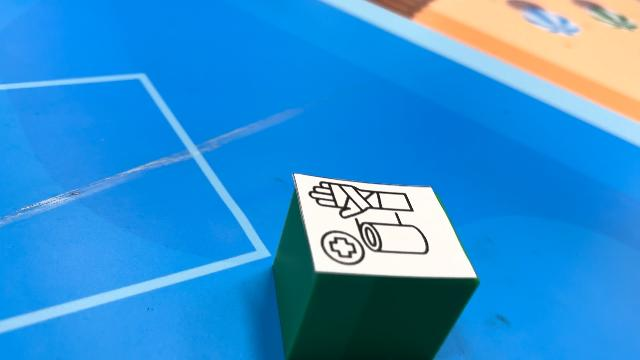bandage: (272, 173, 480, 359)
